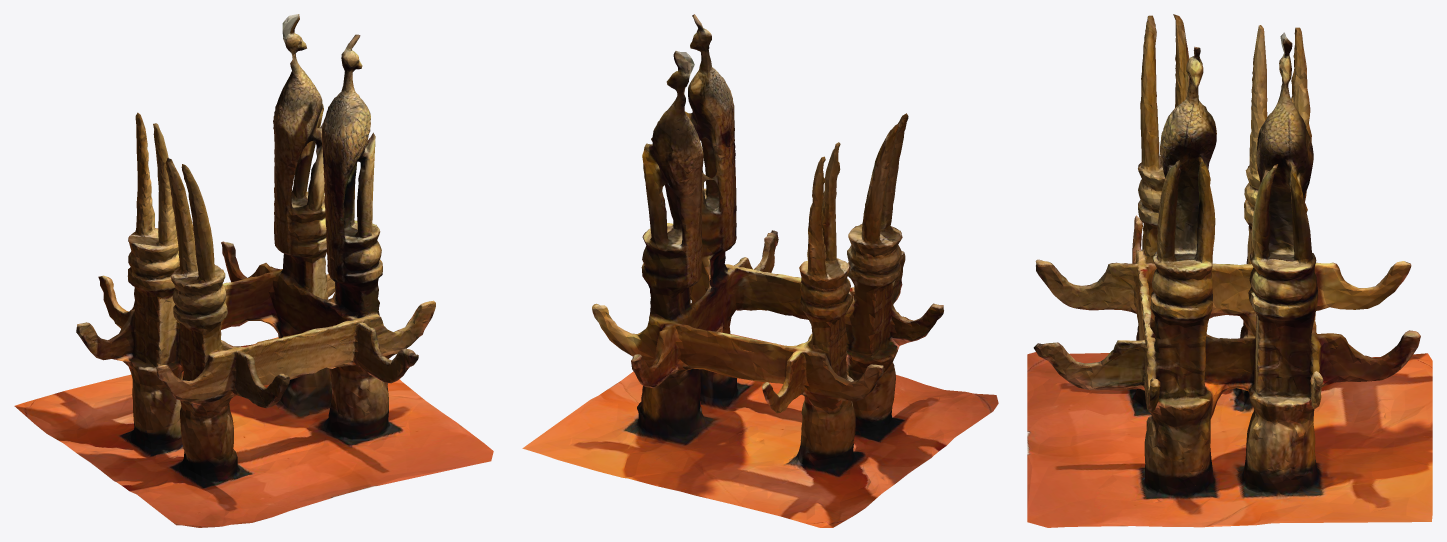
The model's file is Tượng nhà mồ (tầng 2).glb.
3 views of the same model, side by side, from view 1: azimuth 30°, elevation 25°; view 2: azimuth 150°, elevation 25°; view 3: azimuth 270°, elevation 25° (orthographic). The views are drawn at different scales.
Size of the model in its own units: 1.31 by 1.57 by 1.28.
Materials: 1 (1 with a texture image).
